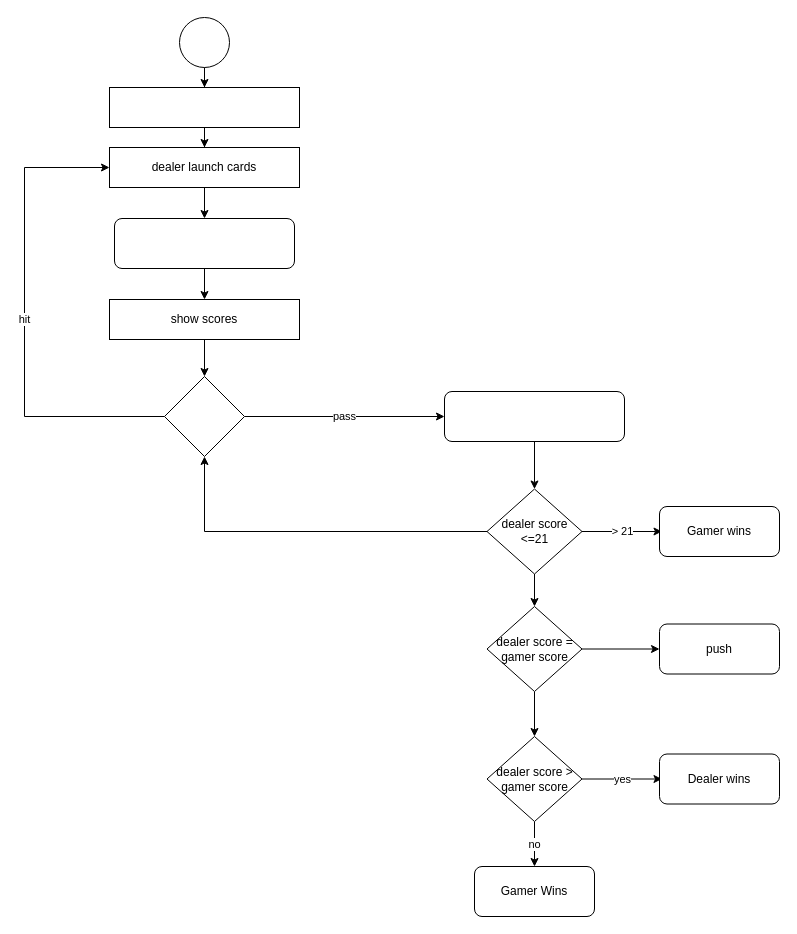
Some shapes in this 797 by 934 pixel diagram are drawn without their labels. The centre of each missing label's shape, as x and y in pixels:
"calculate dealer score" belongs at (534,416).
"calculate scores" belongs at (204,243).
"dealer shuffles cards" belongs at (204,107).
"Hit or Stand" belongs at (204,416).
